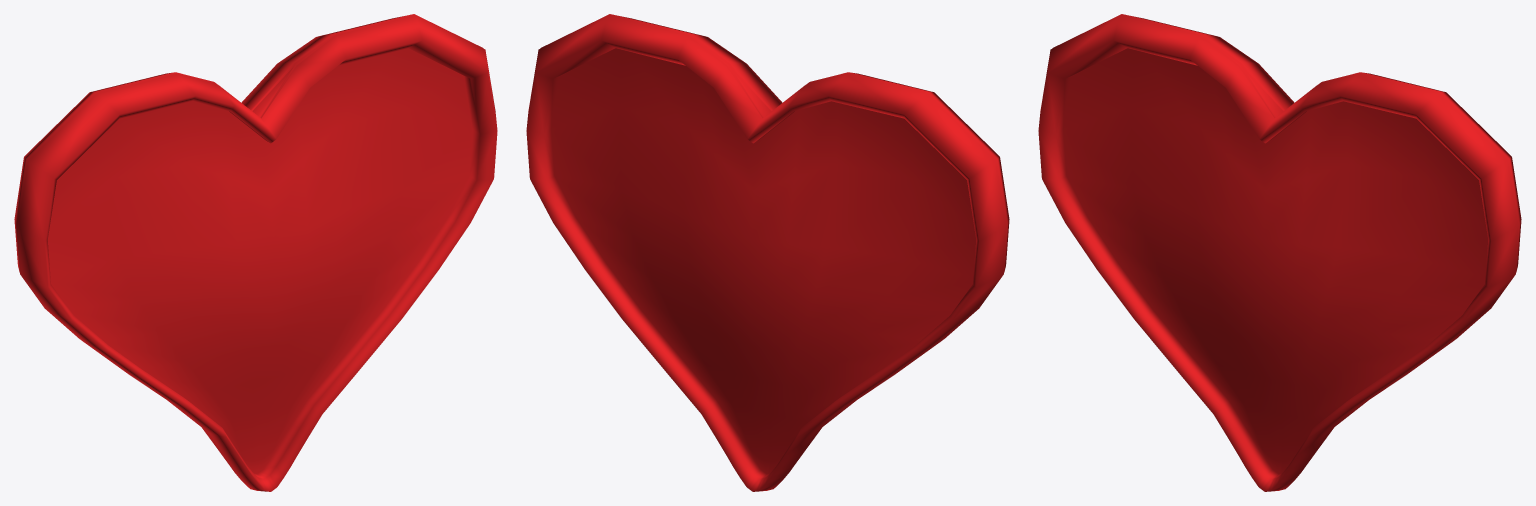
The model's file is heart.fbx.
3 renders of one model, left to right at view 1: azimuth 30°, elevation 25°; view 2: azimuth 150°, elevation 25°; view 3: azimuth 330°, elevation 25°, orthographic.
Parts seen in each view (by area): view 1: Cube; view 2: Cube; view 3: Cube.
Boxes of the visible parts, x1=… form: Cube: x1=14, y1=14, x2=497, y2=491; Cube: x1=526, y1=14, x2=1009, y2=491; Cube: x1=1038, y1=14, x2=1521, y2=491.
Bounding box in the file's own units: 328 × 287 × 49.13.
